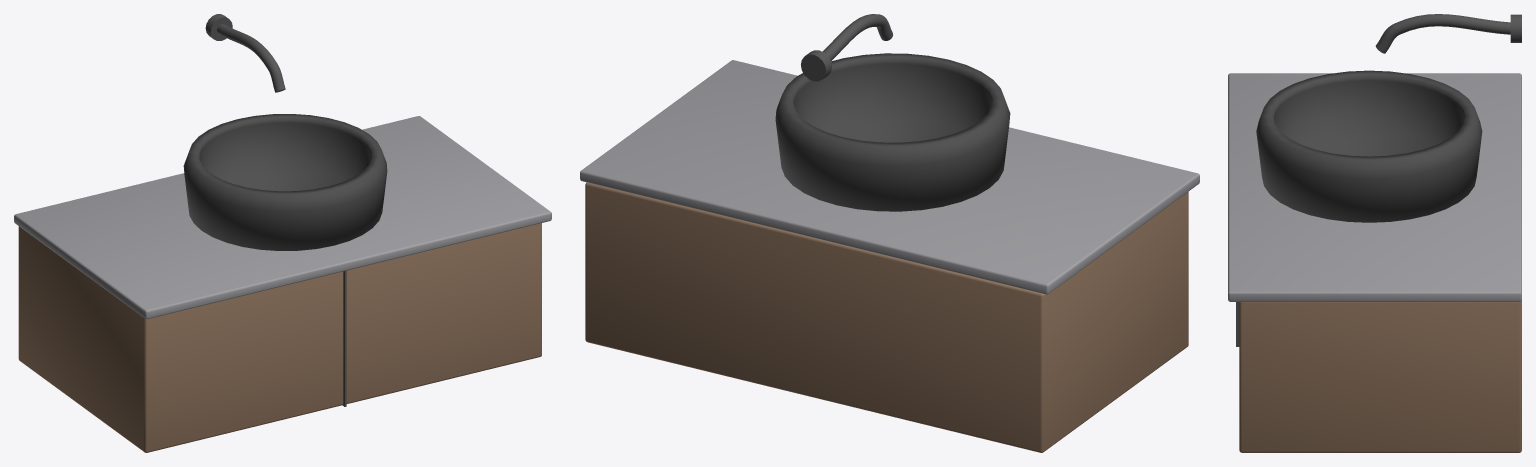
The model's file is it_vanity.glb.
The picture shows the model from 3 angles, left to right: view 1: azimuth 30°, elevation 25°; view 2: azimuth 150°, elevation 25°; view 3: azimuth 270°, elevation 25°; orthographic projection. The views are drawn at different scales.
Parts seen in each view (by area): view 1: body, top, basin, spout, gap1; view 2: body, top, basin, spout, mixer; view 3: body, top, basin, spout, mixer.
Part boxes in pixels (x1,y1,x2,y2): body: (18,223,541,452); top: (14,116,551,319); basin: (183,114,387,250); spout: (217,24,285,92); gap1: (342,270,346,406); body: (585,182,1188,452); top: (580,60,1199,294); basin: (775,53,1010,211); spout: (808,14,892,73); mixer: (801,50,831,81); body: (1239,300,1521,452); top: (1228,73,1521,301); basin: (1256,70,1482,222); spout: (1375,14,1510,53); mixer: (1510,14,1521,42).
Bounding box in the file's own units: 0.92 × 0.6481 × 0.52.
